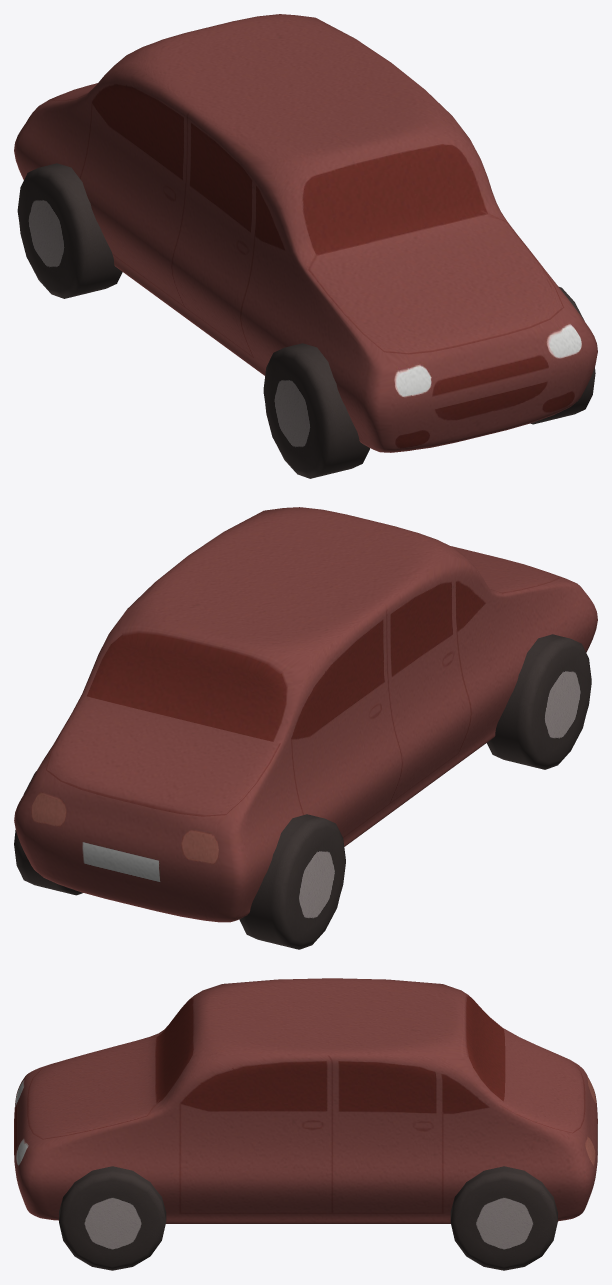
Rendered from car_4.fbx.
3 renders of one model, top to bottom at view 1: azimuth 30°, elevation 25°; view 2: azimuth 150°, elevation 25°; view 3: azimuth 270°, elevation 25°, orthographic. The views are drawn at different scales.
Parts seen in each view (by area): view 1: pCube46, pCylinder42, pCylinder41, pCylinder39; view 2: pCube46, pCylinder41, pCylinder42, pCylinder40; view 3: pCube46, pCylinder39, pCylinder40.
Part boxes in pixels (x1=…): pCube46: x1=14, y1=14, x2=597, y2=452; pCylinder42: x1=263, y1=343, x2=369, y2=478; pCylinder41: x1=17, y1=163, x2=122, y2=298; pCylinder39: x1=530, y1=286, x2=595, y2=424; pCube46: x1=14, y1=507, x2=597, y2=922; pCylinder41: x1=239, y1=814, x2=345, y2=949; pCylinder42: x1=487, y1=634, x2=591, y2=769; pCylinder40: x1=14, y1=771, x2=82, y2=895; pCube46: x1=14, y1=978, x2=597, y2=1223; pCylinder39: x1=59, y1=1166, x2=166, y2=1270; pCylinder40: x1=450, y1=1166, x2=557, y2=1270.
Bounding box in the file's own units: 92.69 × 83.16 × 215.
Materials: 2 (2 with a texture image).
